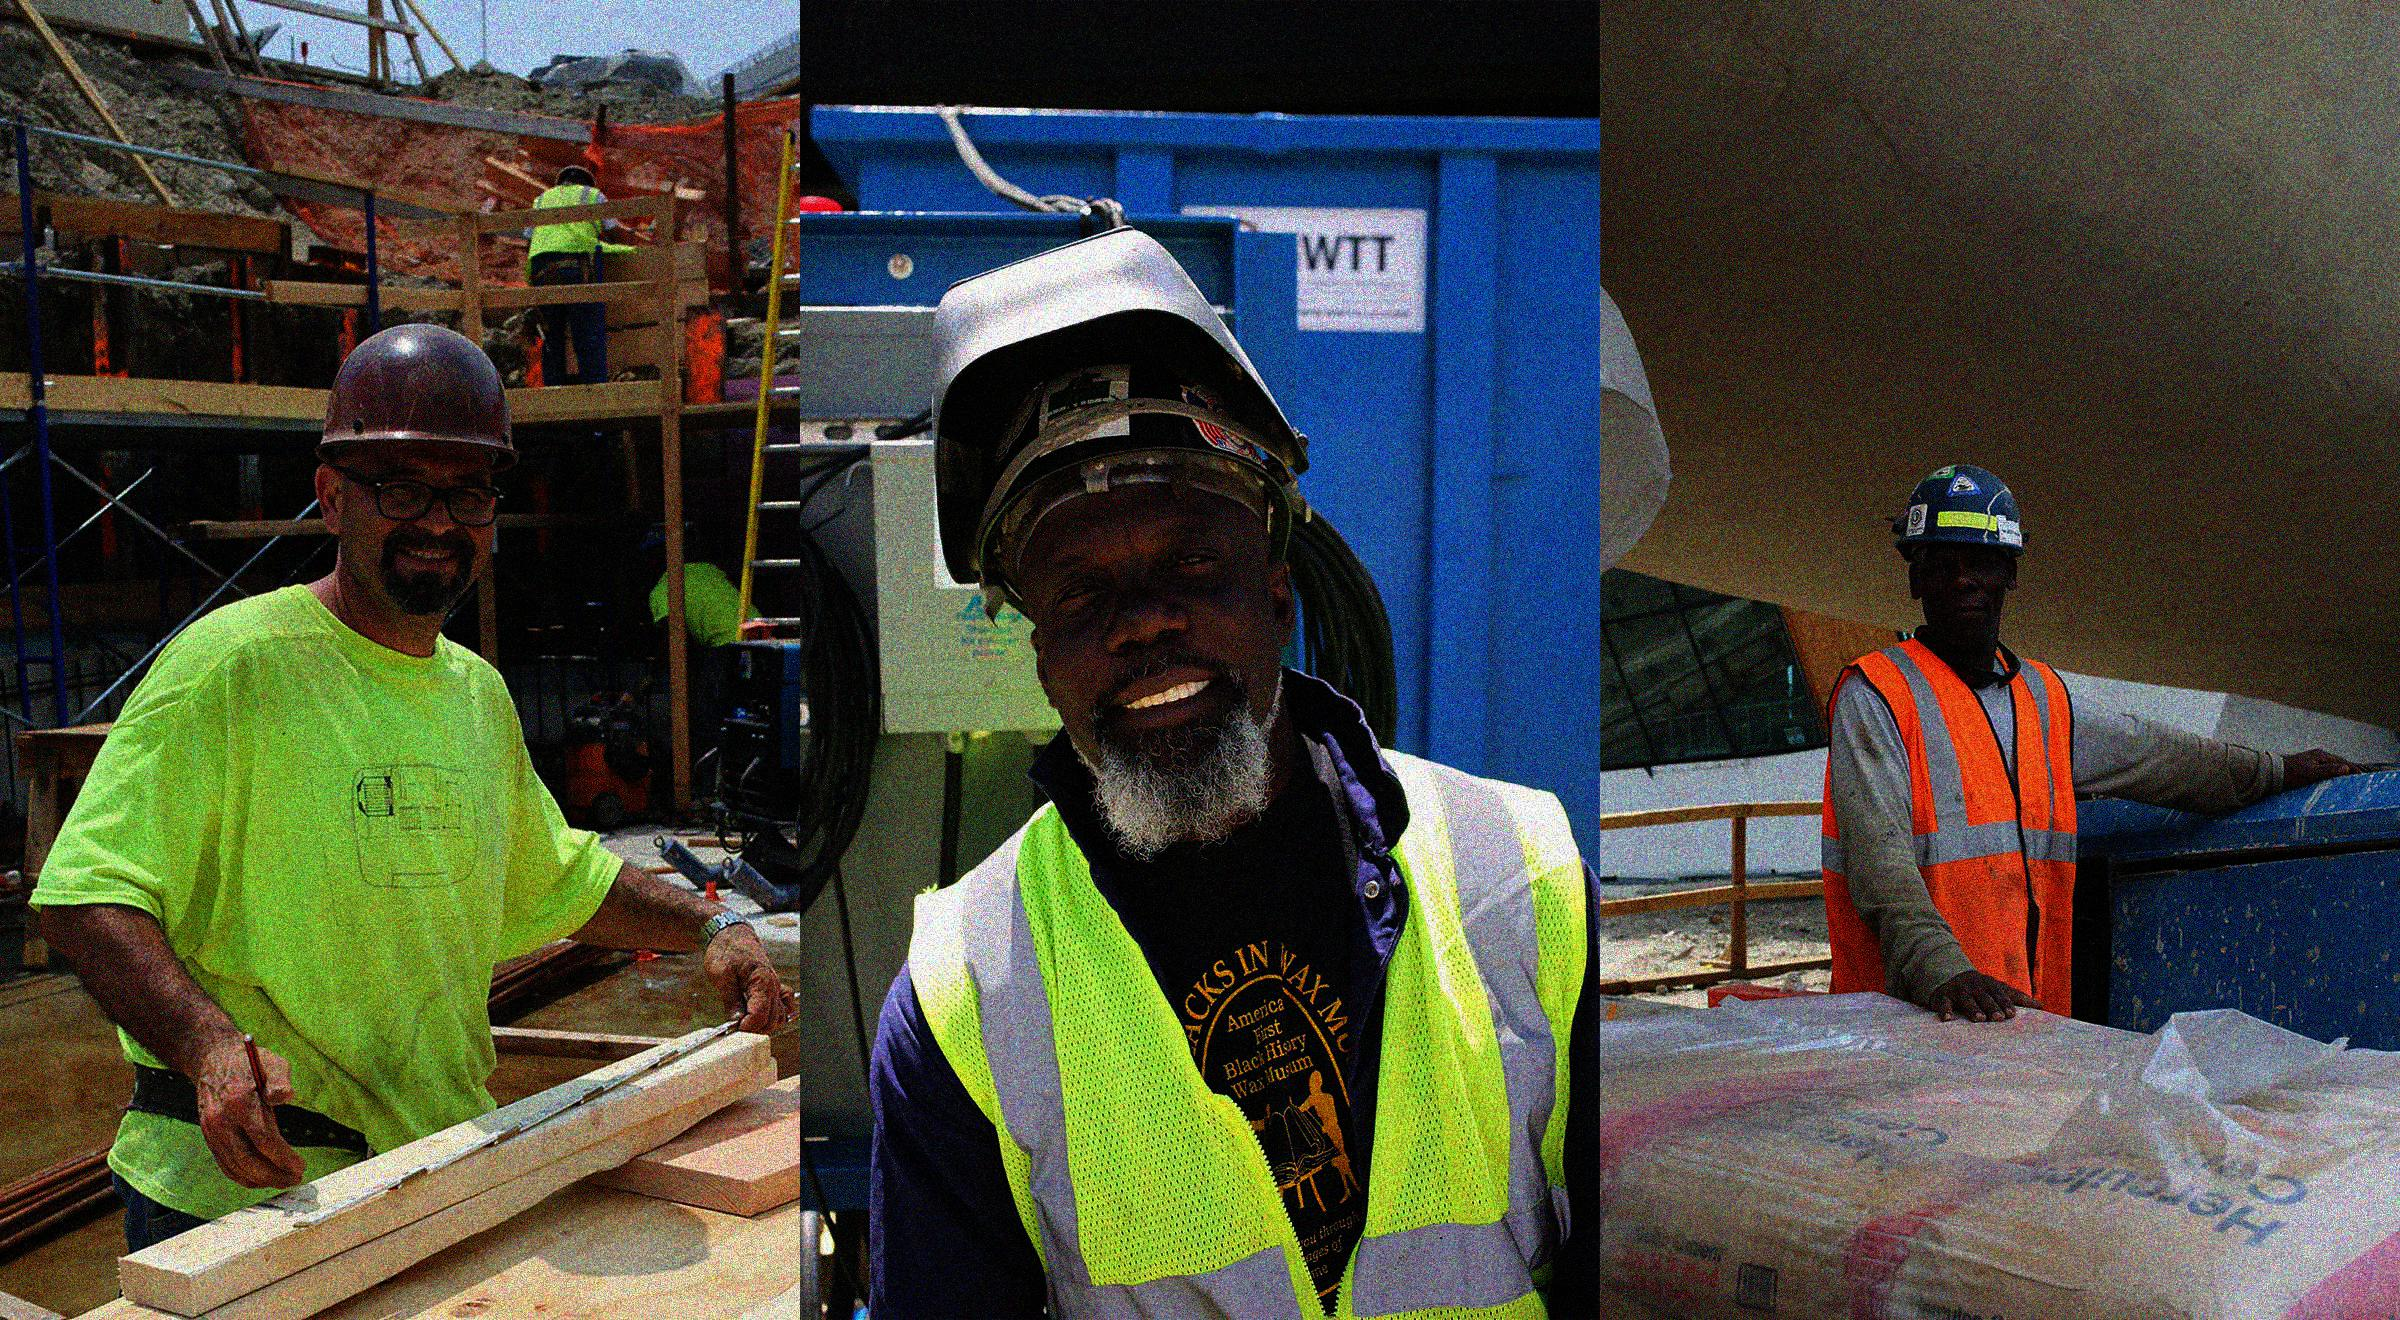helmet: (973, 358, 1315, 787), (318, 320, 513, 623), (1890, 463, 2026, 640), (635, 527, 678, 577), (549, 159, 603, 198)
